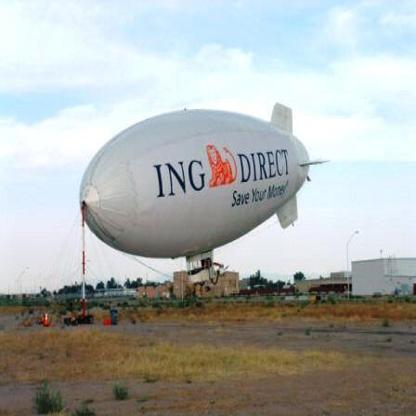Airship: (74, 94, 327, 289)
